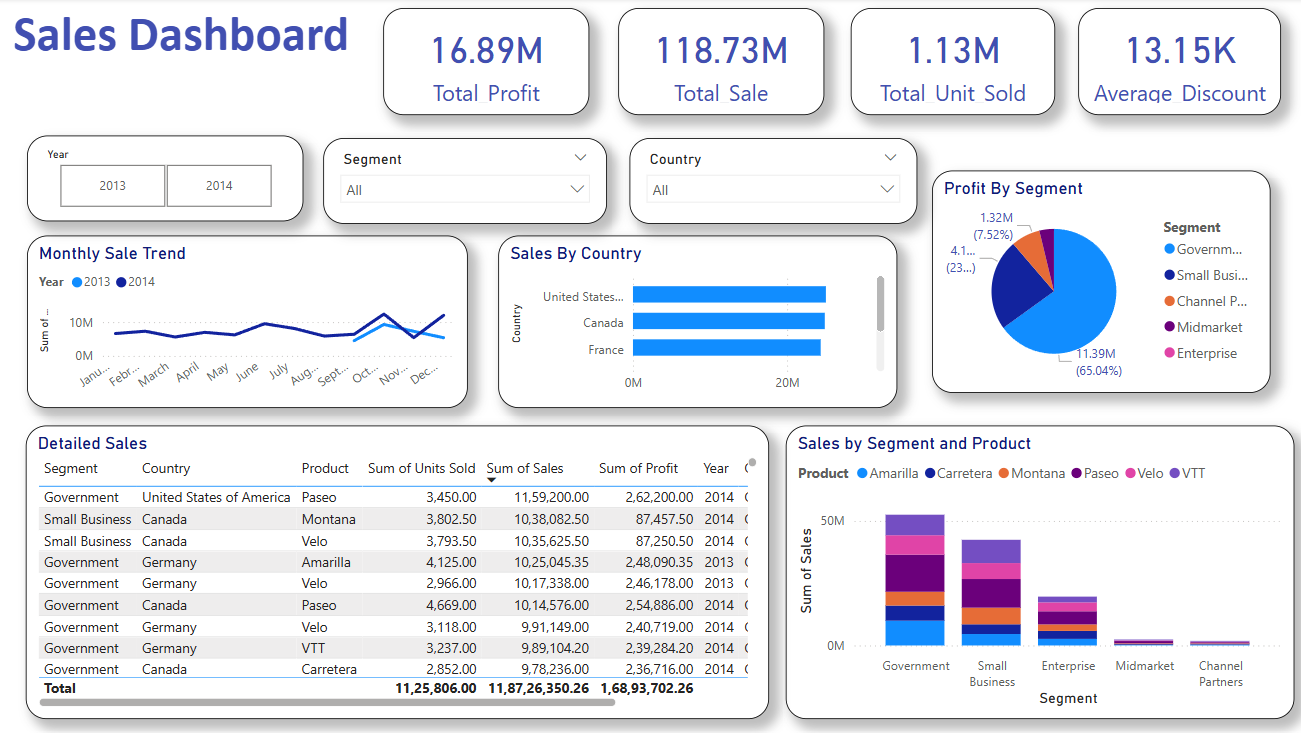

The page's visual inventory and layout, read from the dashboard file:
{"tool":"powerbi","page":{"name":"Page 1","canvas":[1280,720],"ordinal":0},"visuals":[{"type":"textbox","box":[0,0,1280,73.8],"z":0},{"type":"card","fields":{"Values":["financials.Total_Profit"]},"box":[377.5,10,201.2,105],"z":1000},{"type":"card","fields":{"Values":["financials.Total_Sale"]},"box":[607.5,10,201.2,105],"z":2000},{"type":"card","fields":{"Values":["financials.Total_Unit_Sold"]},"box":[835,10,200,105],"z":3000},{"type":"card","fields":{"Values":["financials.Average_Discount"]},"box":[1057.5,10,198.8,105],"z":4000},{"type":"lineChart","title":"Monthly Sale Trend","fields":{"Y":["Sum(financials. Sales)"],"Series":["financials.Year"],"Category":["financials.Month Name"]},"box":[28.8,232.5,431.2,168.8],"z":5000},{"type":"clusteredBarChart","title":"Sales By Country","fields":{"Category":["financials.Country"],"Y":["Sum(financials. Sales)"]},"box":[490,232.5,390,168.8],"z":6000},{"type":"columnChart","title":"Sales by Segment and Product","fields":{"Category":["financials.Segment"],"Y":["Sum(financials. Sales)"],"Series":["financials.Product"]},"box":[771.3,417.6,497.4,287.5],"z":7000},{"type":"pieChart","title":"Profit By Segment","fields":{"Category":["financials.Segment"],"Y":["Sum(financials.Profit)"]},"box":[915,168.9,331.6,217.2],"z":8000},{"type":"tableEx","title":"Detailed Sales","fields":{"Values":["financials.Segment","financials.Country","financials.Product","Sum(financials.Units Sold)","Sum(financials. Sales)","Sum(financials.Profit)","financials.Date.Variation.Date Hierarchy.Year","financials.Date.Variation.Date Hierarchy.Quarter","financials.Date.Variation.Date Hierarchy.Month","financials.Date.Variation.Date Hierarchy.Day"]},"box":[28.3,417.6,727.2,287.5],"z":9000},{"type":"slicer","fields":{"Values":["financials.Year"]},"box":[28.8,135,270,83.8],"z":10000},{"type":"slicer","fields":{"Values":["financials.Segment"]},"box":[318.8,137.5,277.5,83.8],"z":11000},{"type":"slicer","fields":{"Values":["financials.Country"]},"box":[618.8,137.5,281.2,83.8],"z":12000}]}

Visuals, with their boxes in screenshot pixels (x1, y1, x2, y2), scaled from the page's 1280x720 canvas onto the 1301x733 screenshot:
textbox: (0,0,1300,75)
card - financials.Total_Profit: (384,10,588,117)
card - financials.Total_Sale: (617,10,822,117)
card - financials.Total_Unit_Sold: (849,10,1052,117)
card - financials.Average_Discount: (1075,10,1277,117)
"Monthly Sale Trend" lineChart: (29,237,468,409)
"Sales By Country" clusteredBarChart: (498,237,894,409)
"Sales by Segment and Product" columnChart: (784,425,1290,718)
"Profit By Segment" pieChart: (930,172,1267,393)
"Detailed Sales" tableEx: (29,425,768,718)
slicer - financials.Year: (29,137,304,223)
slicer - financials.Segment: (324,140,606,225)
slicer - financials.Country: (629,140,915,225)
